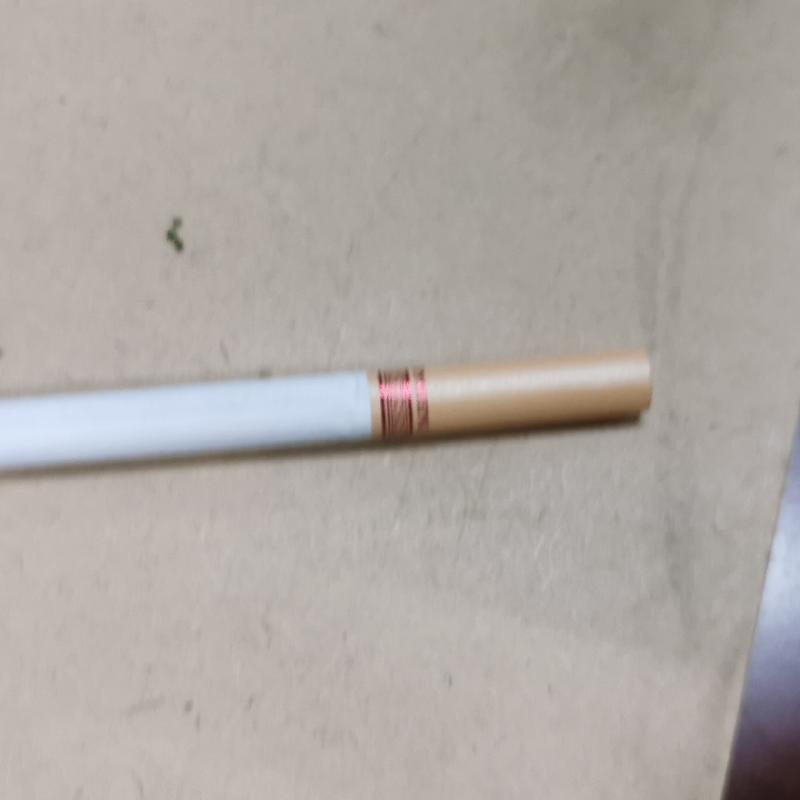cigarette: (6, 343, 657, 478)
